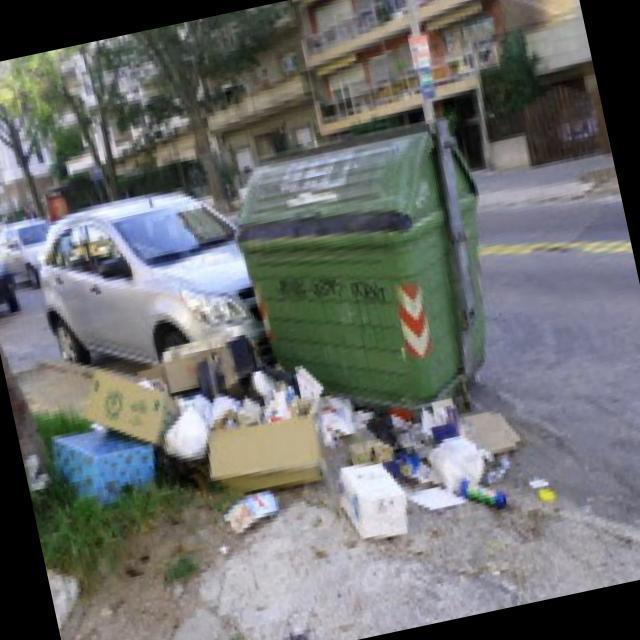garbage: (3, 304, 346, 584), (330, 368, 543, 560), (259, 620, 332, 640)
